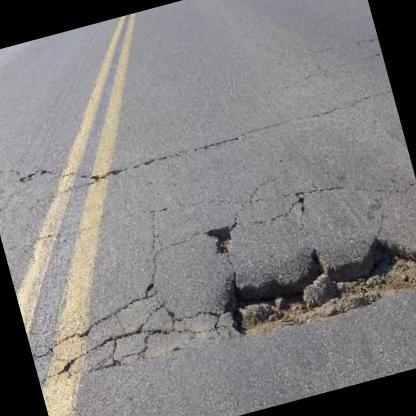pothole: (206, 218, 416, 346), (203, 220, 239, 258)
